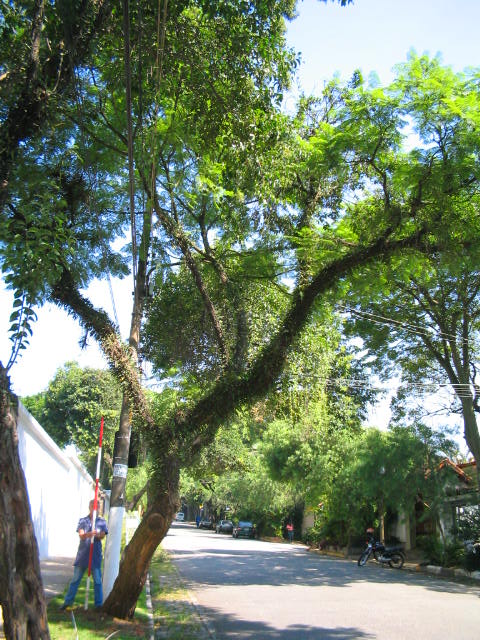crown: (4, 50, 474, 318)
stem: (101, 453, 197, 618)
stick: (80, 419, 107, 610)
tree: (3, 48, 477, 618)
